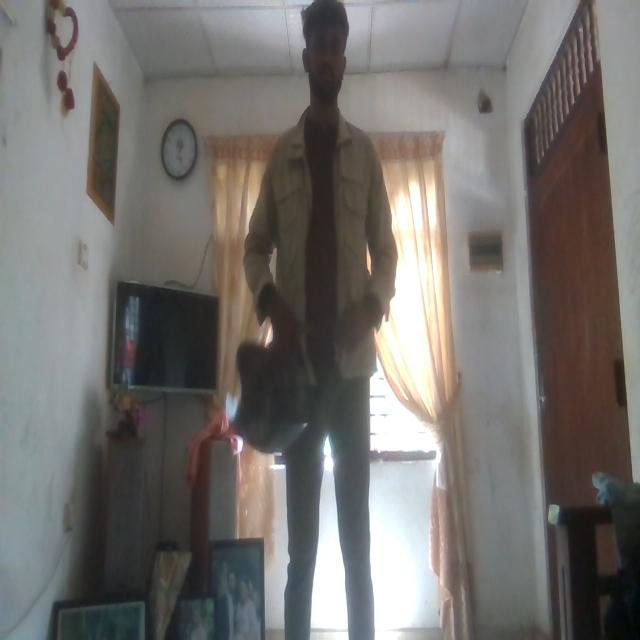Jacket_Wearer: (244, 99, 398, 394)
Person: (244, 0, 390, 640)
